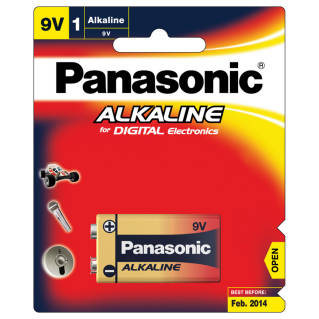Battery: (87, 210, 226, 285)
